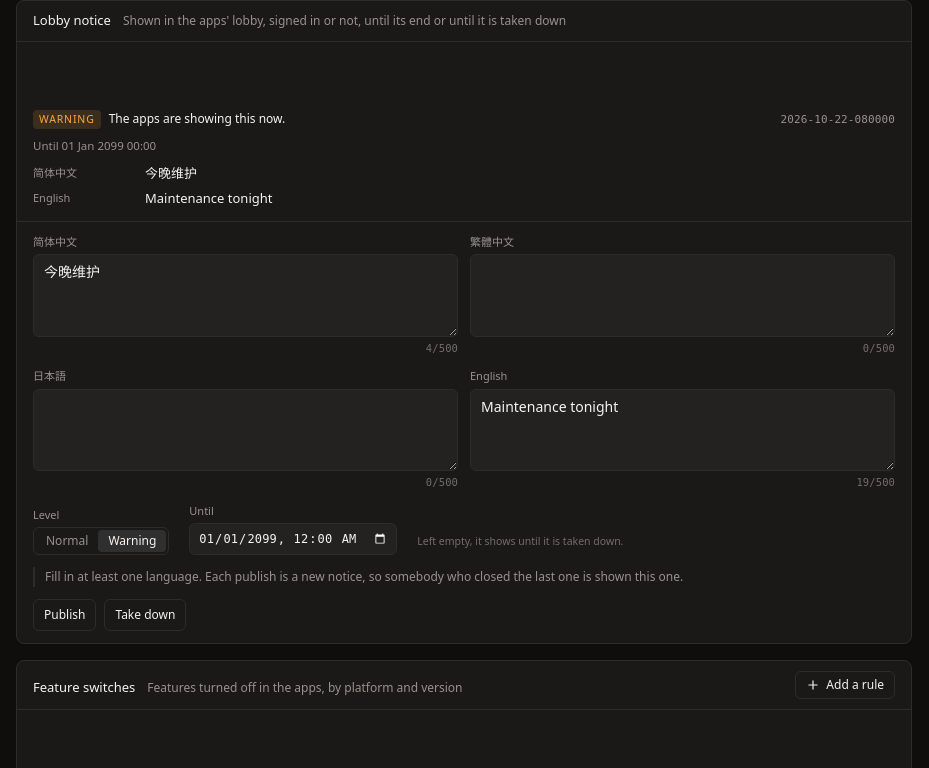
Test: the lobby's notice › is taken down by its own button, offered only while there is a notice
The image size is (929, 768).
Step 1. Click the button "Take down" → (145, 615), box [104,599,186,631]
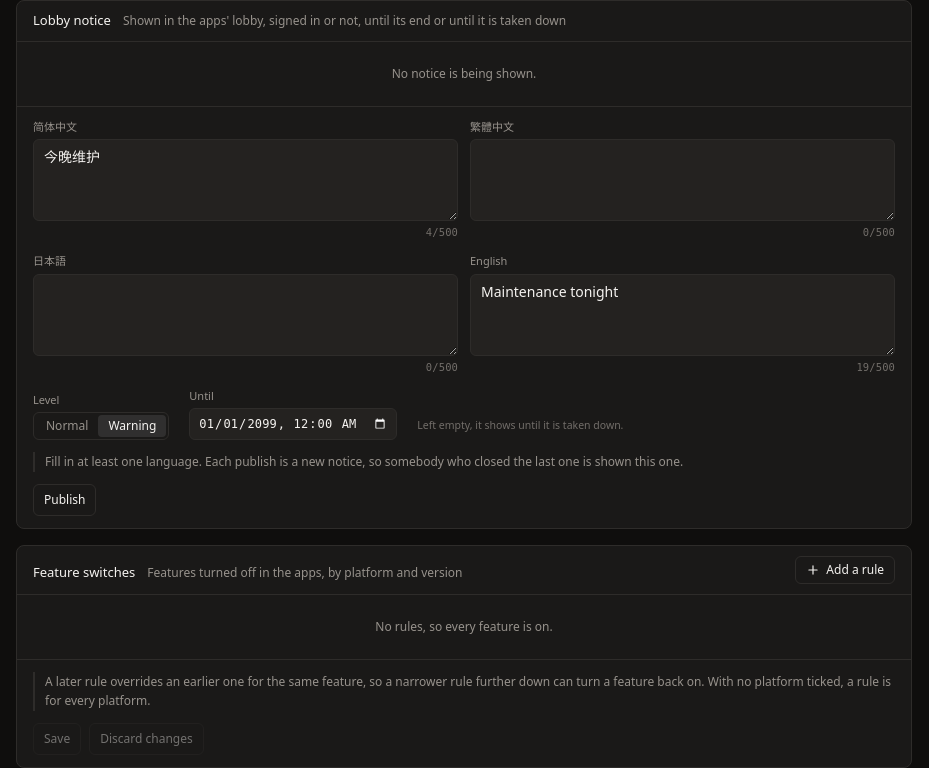
Result: the text "No notice is being shown." is shown at [392,64,536,82]
Result: the button "Take down" is gone
